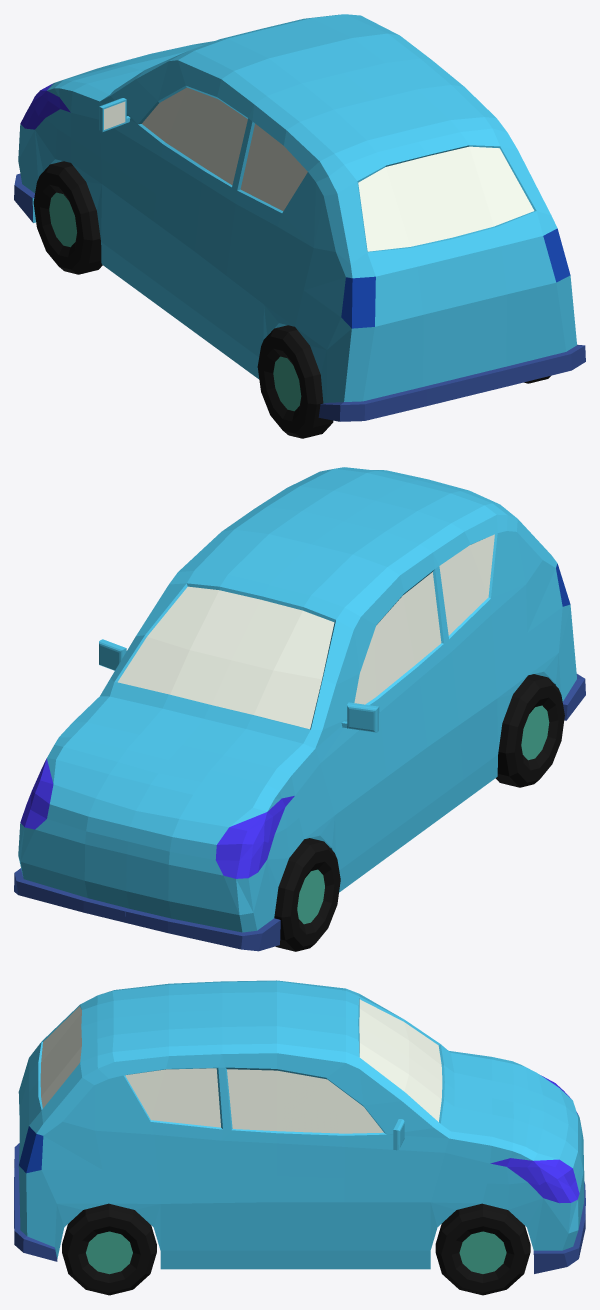
File: Car02.fbx
3 renders of one model, top to bottom at view 1: azimuth 30°, elevation 25°; view 2: azimuth 150°, elevation 25°; view 3: azimuth 270°, elevation 25°, orthographic. The views are drawn at different scales.
Parts seen in each view (by area): view 1: Car02; view 2: Car02; view 3: Car02.
Boxes of the visible parts, bbox=[...] form: Car02: bbox=[14, 14, 585, 438]; Car02: bbox=[14, 467, 585, 951]; Car02: bbox=[14, 980, 585, 1295].
Bounding box in the file's own units: 198 × 193 × 424.
